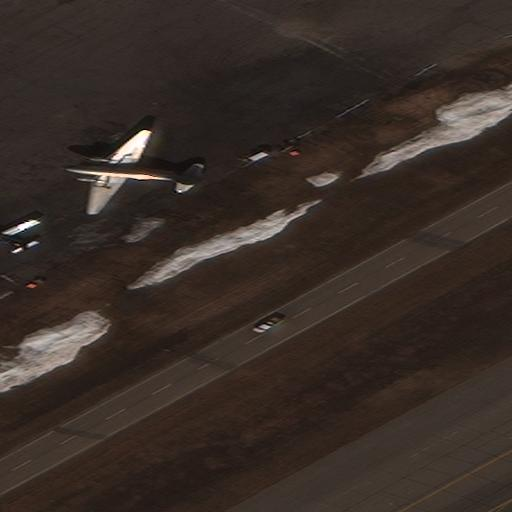Medium Civil Transport: (62, 129, 199, 214), (0, 218, 29, 251)
